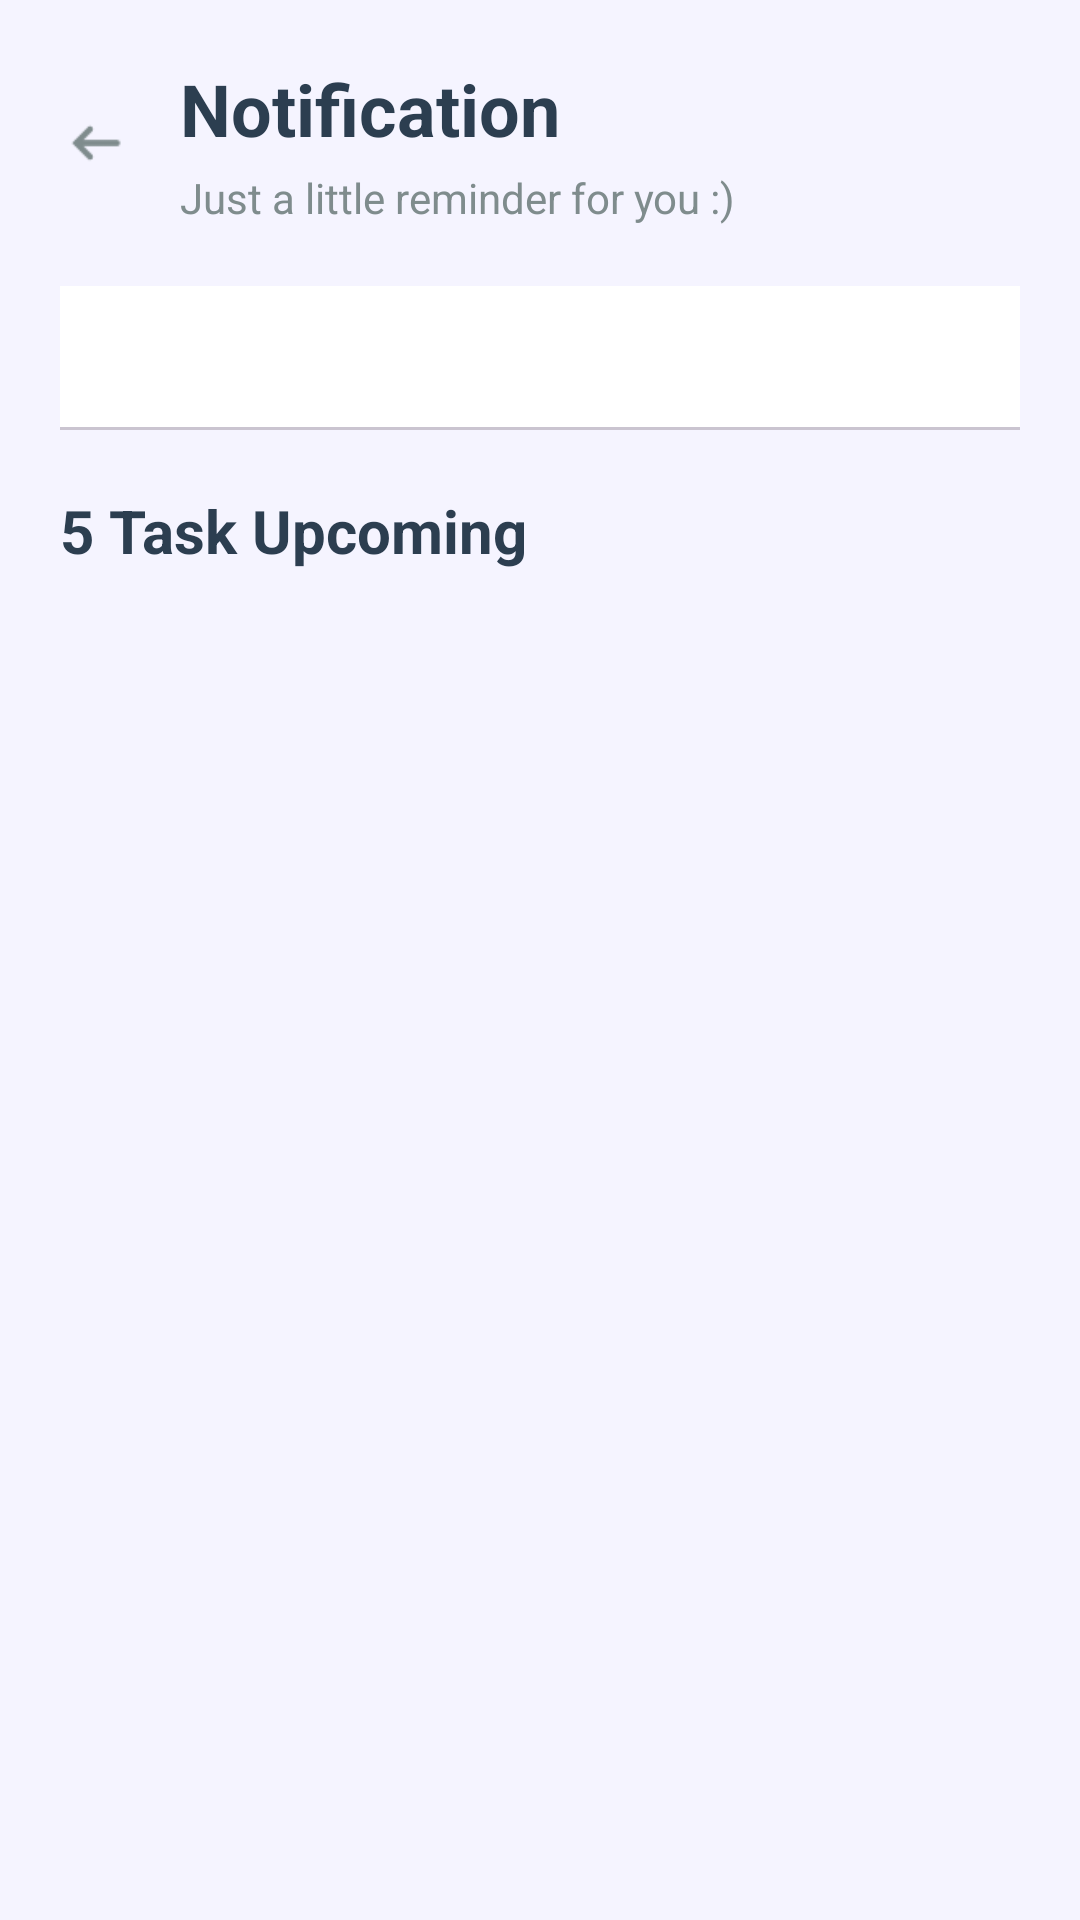

Where to tap for icons on this 1080w x 1920h app screen, as (x,y):
back: (96,143)
